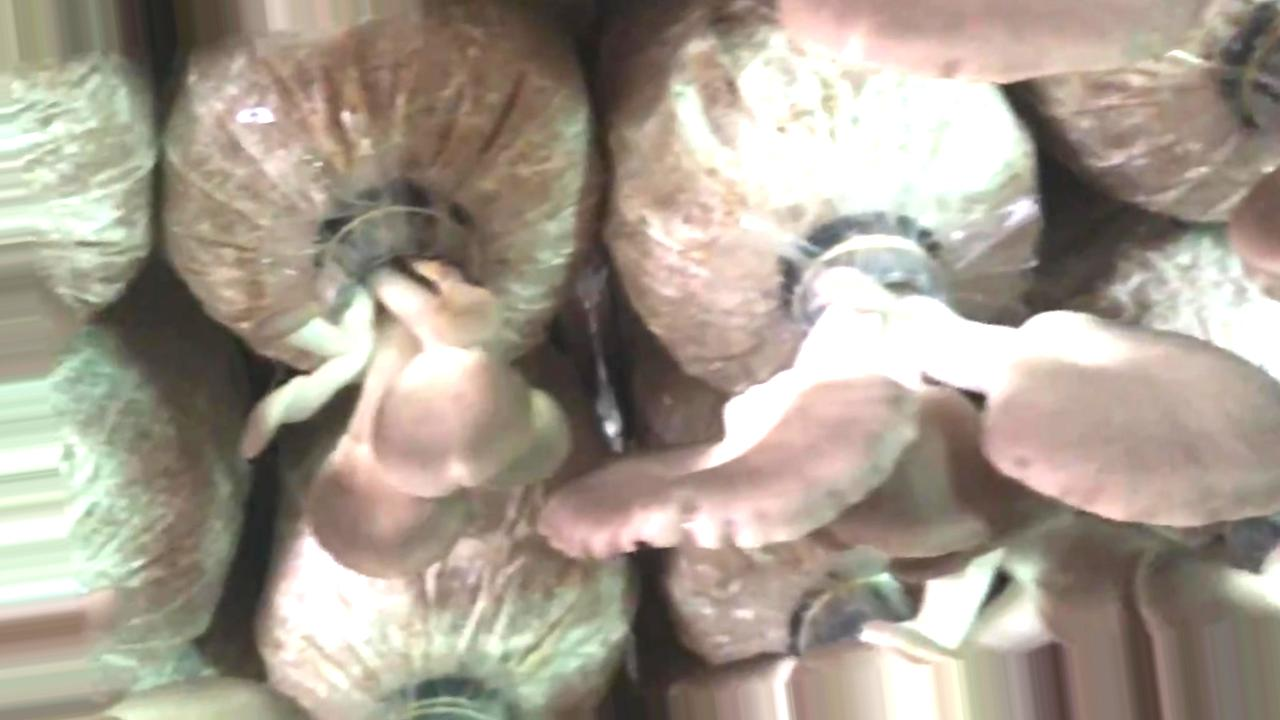nam: (535, 212, 1280, 567), (239, 187, 574, 584)
